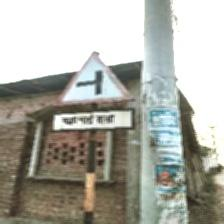Side-road-left: (52, 51, 136, 134)
